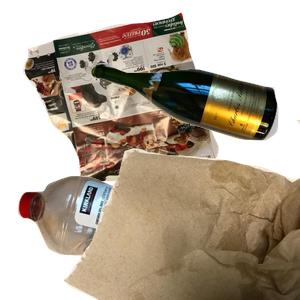glass: (88, 60, 300, 193)
paper: (20, 10, 231, 190)
plastic: (15, 173, 222, 300)
trash: (60, 120, 300, 300)
